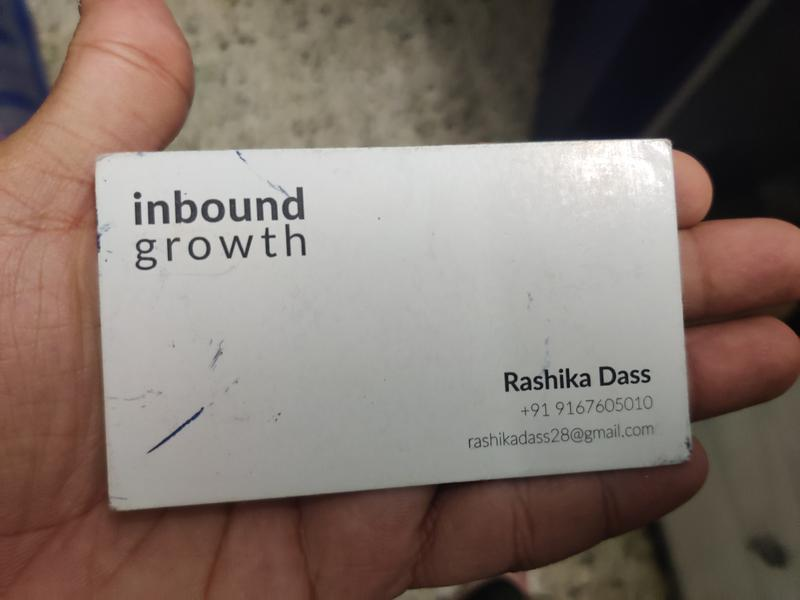card: (88, 138, 689, 508)
